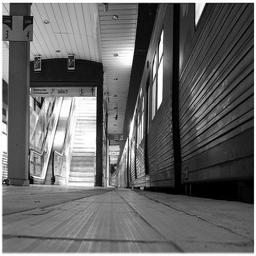train: (128, 3, 256, 182)
